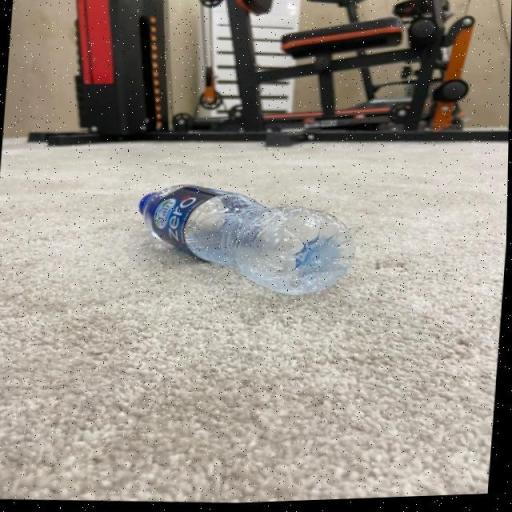plastic: (132, 176, 362, 308)
